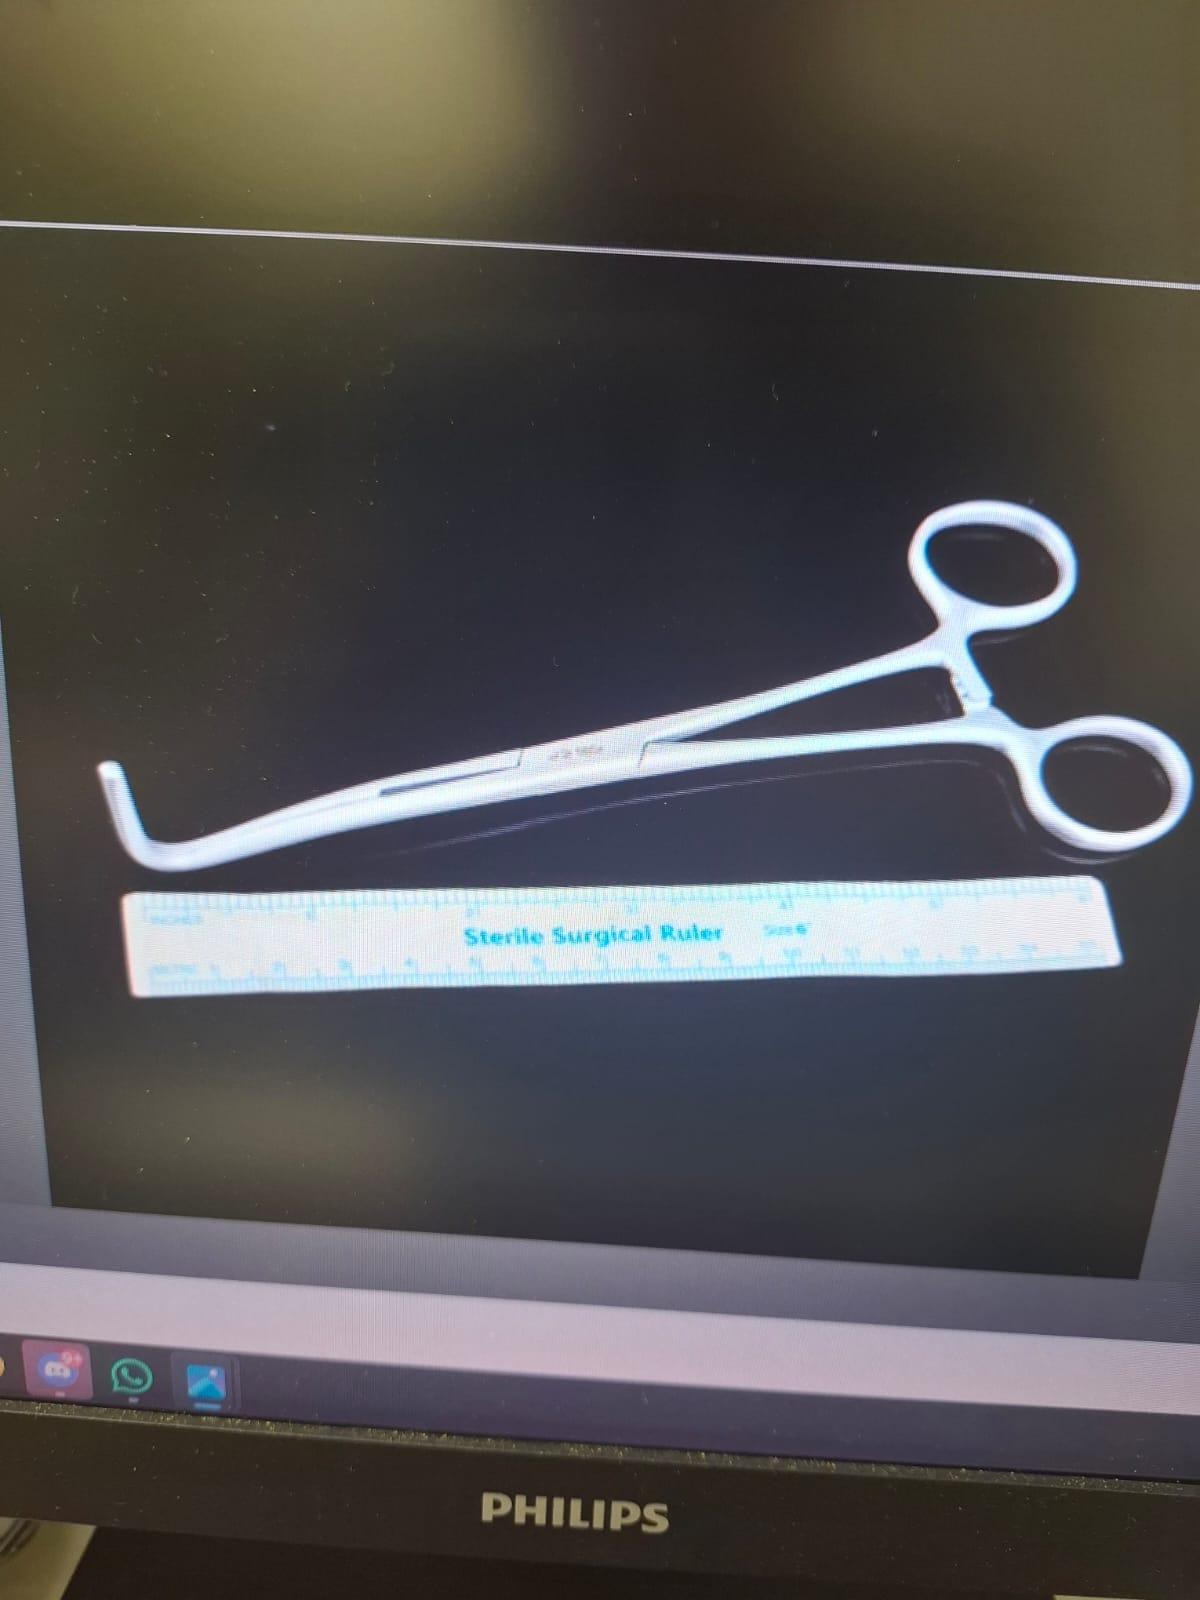Rectangle Cholecystectomy Forceps: (89, 490, 1200, 900)
